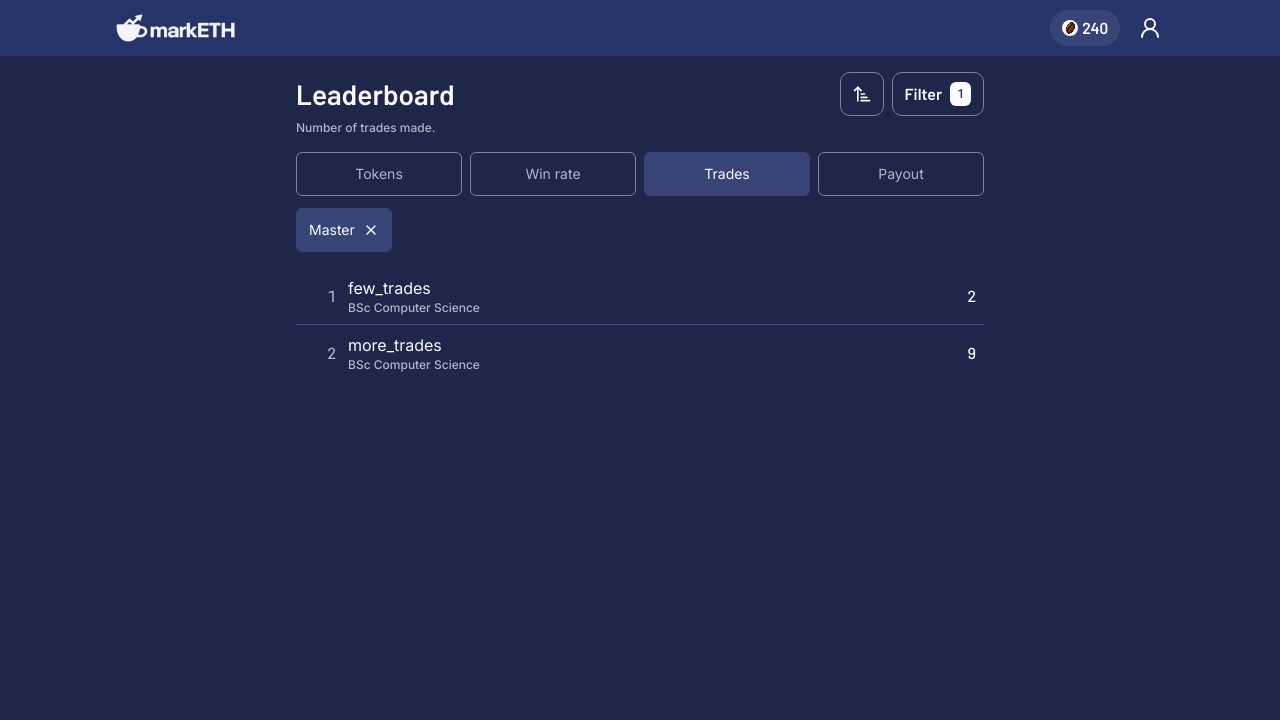
the statistics of a player › the rank is the one of the list as it is shown, under its sort and its filters
The image size is (1280, 720).
Expected: the text "more_trades" is shown, [348,333,442,357]
Step 1. Click the button "2 more_trades BSc Computer Science 9" → coordinates (344, 352), box [296,325,984,381]
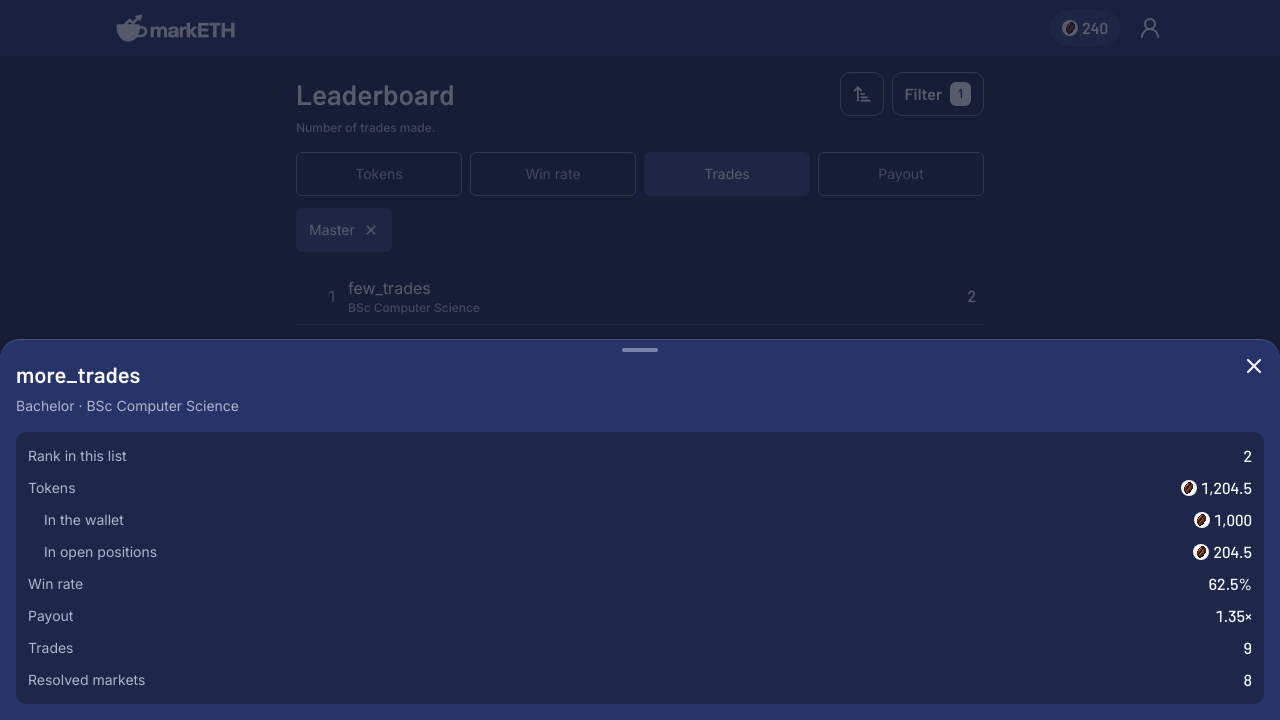
Now the text "2" is shown, box [1244,444,1252,468]
Now the text "9" is shown, box [1244,636,1252,660]
